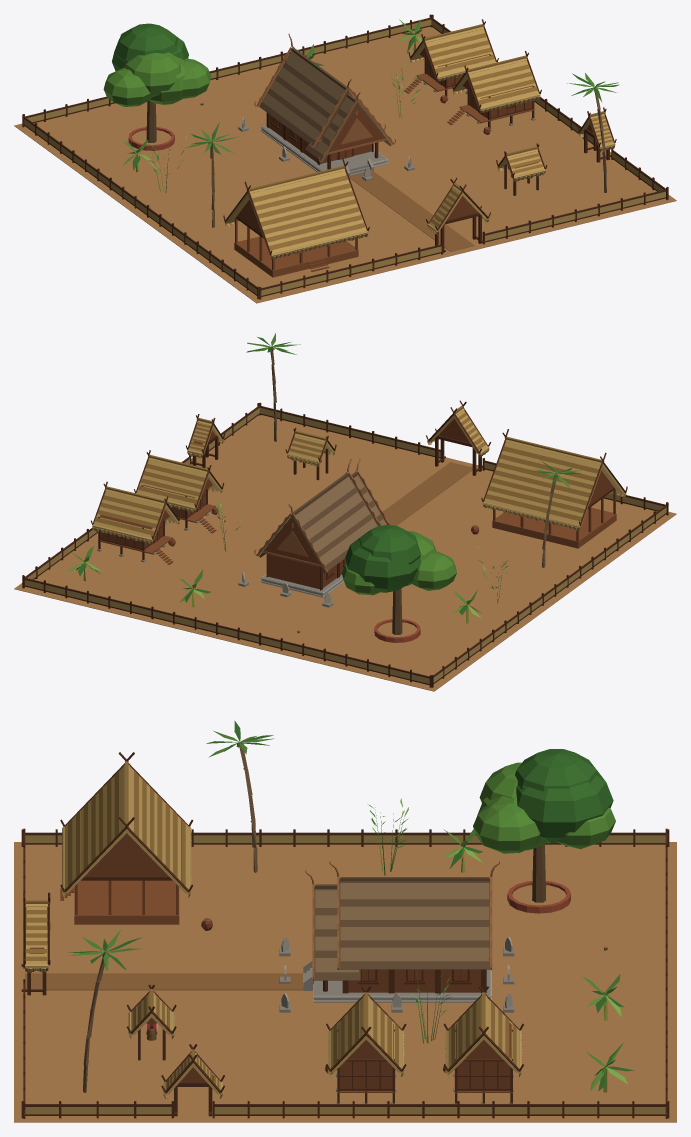
The model's file is temple_1.glb.
The picture shows the model from 3 angles, top to bottom: view 1: azimuth 30°, elevation 25°; view 2: azimuth 150°, elevation 25°; view 3: azimuth 270°, elevation 25°; orthographic projection. The views are drawn at different scales.
Parts seen in each view (by area): view 1: body; view 2: body; view 3: body.
Boxes of the visible parts, bbox=[...] form: body: bbox=[14, 14, 676, 303]; body: bbox=[14, 333, 676, 691]; body: bbox=[14, 720, 676, 1122].
Bounding box in the file's own units: 47.9 × 12.05 × 47.9.
